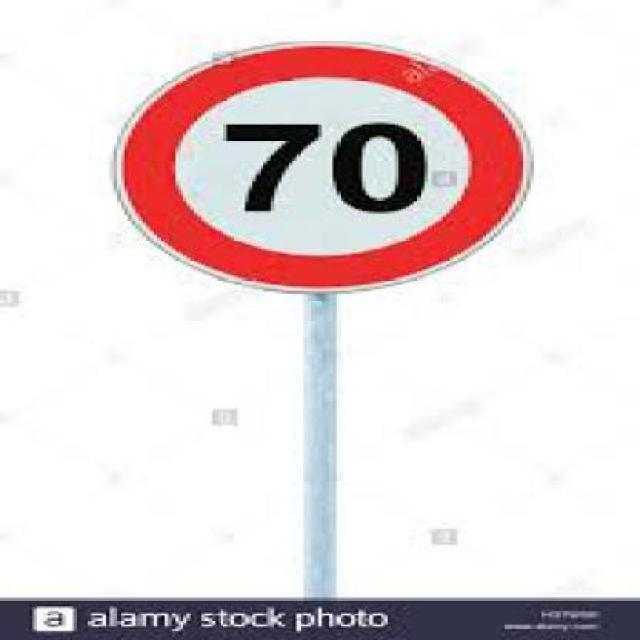forb_speed_over_70: (182, 82, 461, 244)
